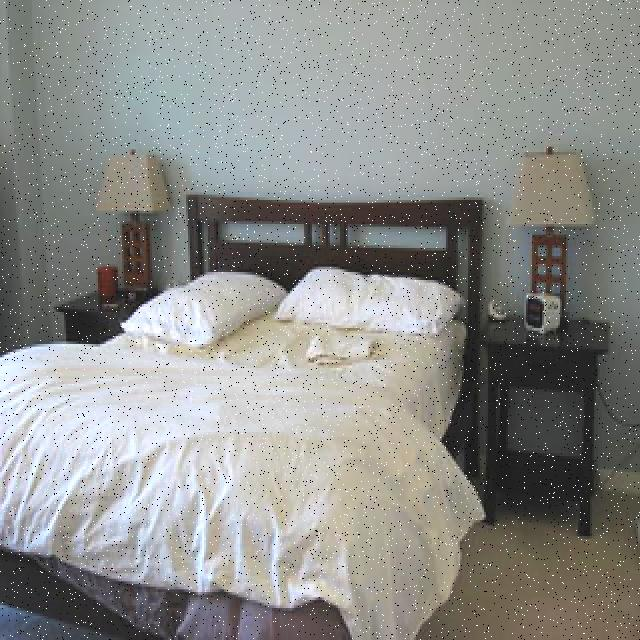bed: (0, 264, 491, 639)
